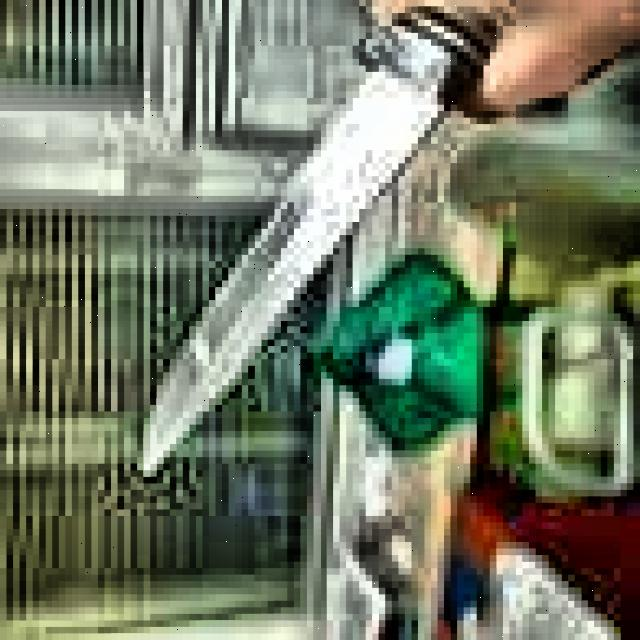knife: (137, 0, 490, 477)
